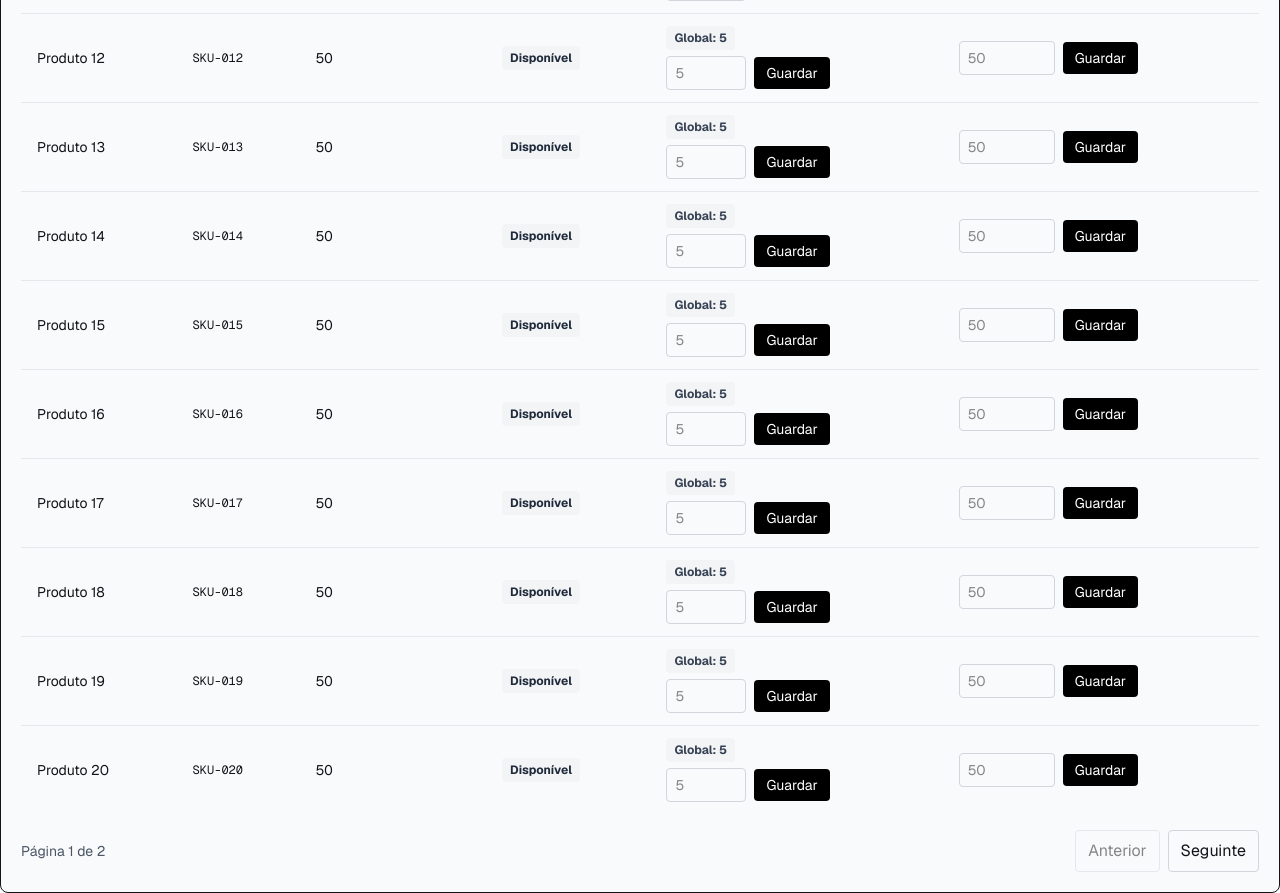
Admin Inventory Client › pagina a lista com mais de 20 SKUs
(page scrolled)
Check: the text "SKU-021" is not shown
Check: the text "Página 1 de 2" is shown, box [21, 841, 105, 861]
Click the button named "Página seguinte".
click(1213, 851)  # box [1168, 830, 1259, 872]
(page scrolled)
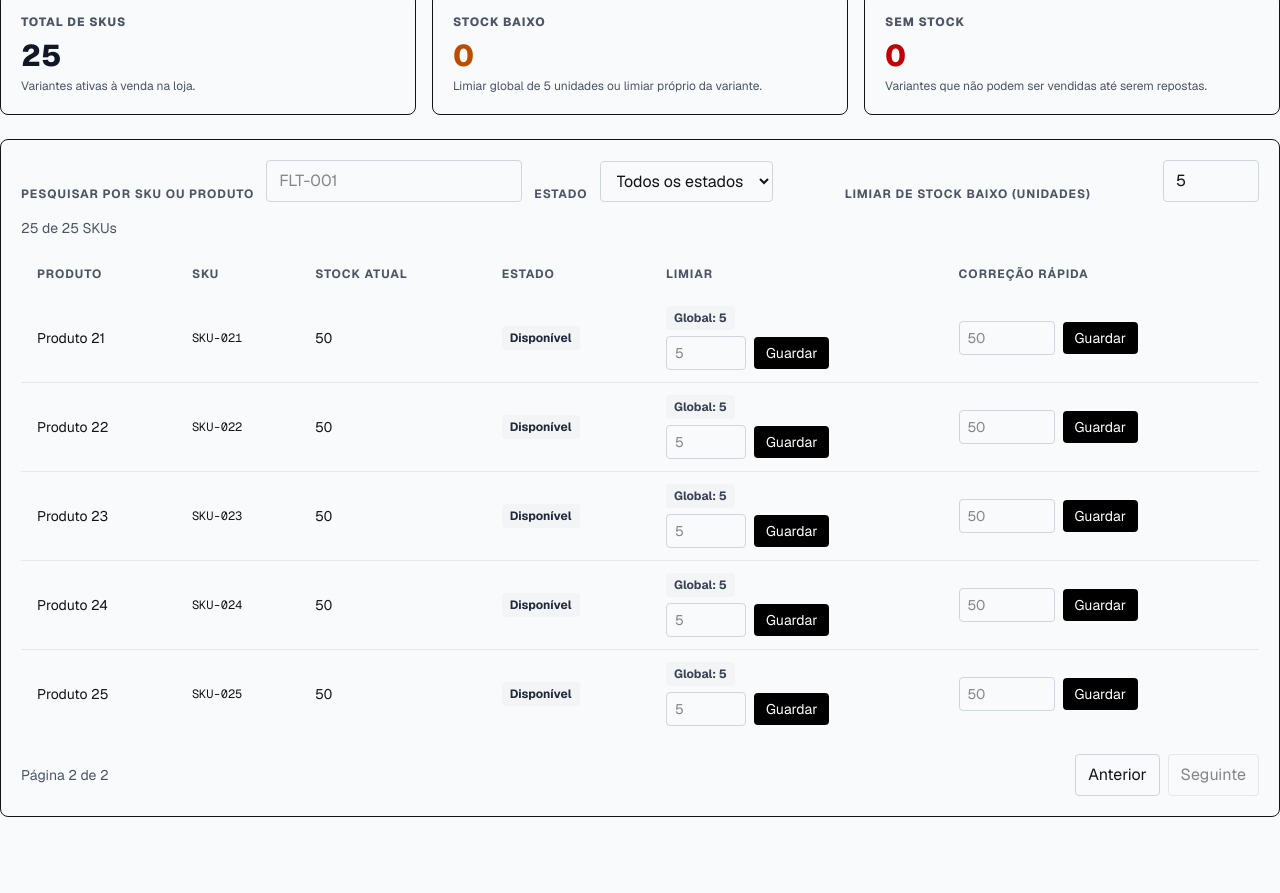
Check: the text "25 de 25 SKUs" is shown, box [21, 219, 117, 237]
Check: the text "SKU-021" is shown, box [176, 294, 299, 382]
